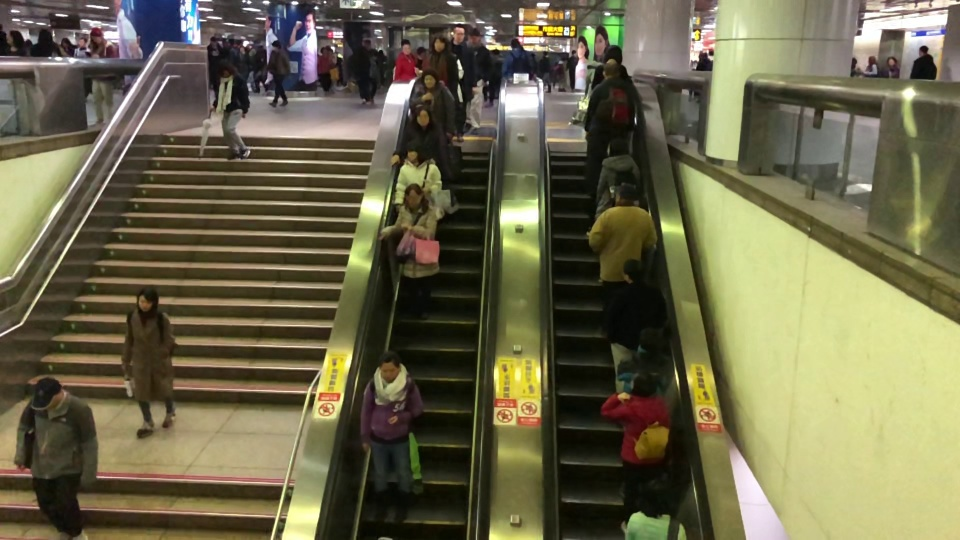person_head: (639, 478, 671, 516), (31, 377, 64, 409), (378, 348, 404, 378), (628, 370, 656, 397), (636, 328, 665, 354), (134, 286, 160, 311), (621, 258, 645, 283), (613, 183, 637, 205), (404, 182, 424, 208), (602, 44, 623, 64), (421, 67, 440, 89), (406, 138, 424, 161), (605, 138, 628, 156), (413, 105, 430, 127), (601, 60, 619, 79), (6, 29, 24, 46), (432, 34, 448, 52), (452, 24, 467, 42), (37, 28, 53, 44), (219, 60, 235, 75), (89, 27, 103, 43), (468, 28, 480, 45), (400, 39, 411, 54), (886, 55, 898, 67), (510, 38, 521, 48), (918, 44, 929, 54), (417, 45, 426, 57), (61, 38, 70, 48), (272, 39, 281, 49), (79, 38, 87, 48), (868, 54, 876, 63), (850, 56, 857, 66), (210, 36, 215, 45), (321, 47, 328, 53), (702, 51, 708, 58), (571, 48, 576, 56)
person_vbox: (13, 376, 99, 540), (600, 370, 672, 534), (359, 348, 423, 527), (586, 183, 657, 338), (119, 286, 179, 439), (584, 60, 634, 235), (603, 258, 667, 394), (377, 183, 440, 320), (410, 69, 460, 216), (210, 60, 254, 161), (617, 328, 677, 398), (390, 105, 448, 175), (593, 137, 641, 218), (625, 477, 686, 539), (393, 138, 443, 213), (449, 23, 476, 142), (87, 28, 118, 126), (464, 27, 491, 137), (421, 34, 458, 94), (265, 39, 291, 108), (592, 44, 630, 91), (383, 38, 415, 88), (502, 37, 533, 78), (73, 38, 90, 102), (909, 44, 937, 80), (30, 28, 62, 57), (207, 36, 221, 93), (317, 47, 333, 95), (5, 28, 26, 56), (566, 49, 577, 91), (881, 55, 900, 79), (864, 55, 881, 77), (698, 52, 713, 71), (850, 57, 864, 77), (59, 37, 73, 56)
